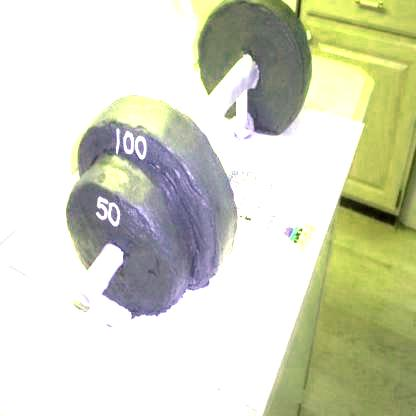Barbell: (72, 276, 99, 319)
